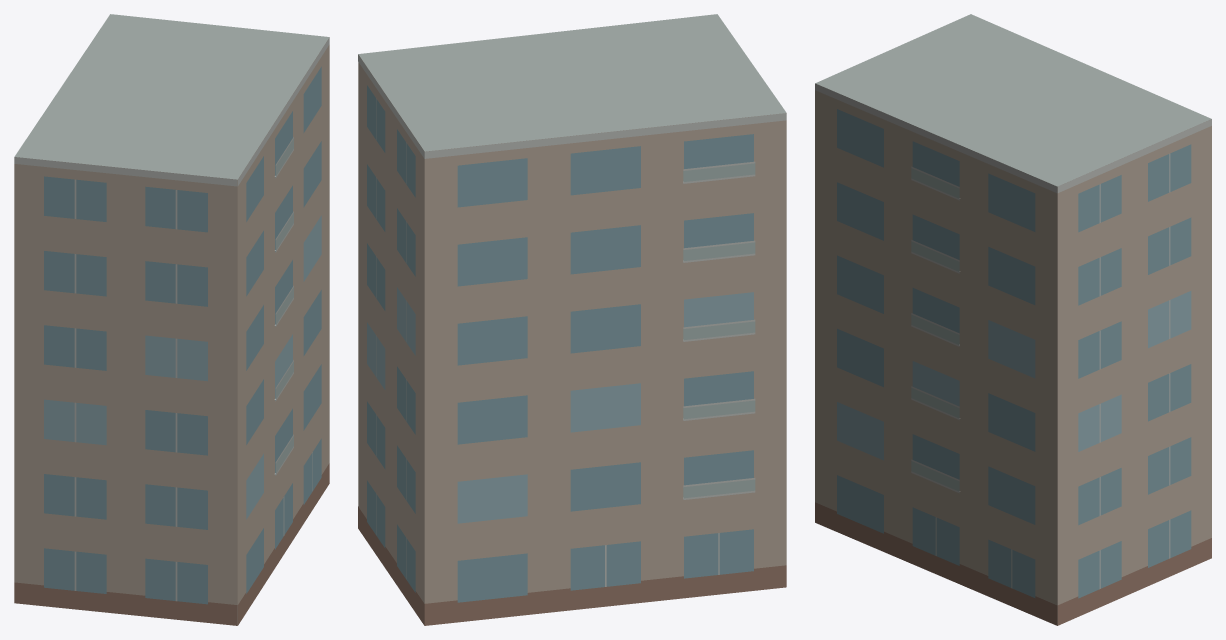
Rendered from survey-upis-32885749.glb.
3 renders of one model, left to right at view 1: azimuth 30°, elevation 25°; view 2: azimuth 150°, elevation 25°; view 3: azimuth 270°, elevation 25°, orthographic. The views are drawn at different scales.
Parts seen in each view (by area): view 1: survey-upis-32885749.tmp; view 2: survey-upis-32885749.tmp; view 3: survey-upis-32885749.tmp.
Part boxes in pixels (x1,y1,x2,y2): survey-upis-32885749.tmp: [14, 14, 329, 625]; survey-upis-32885749.tmp: [358, 14, 786, 625]; survey-upis-32885749.tmp: [815, 14, 1211, 625].
Size of the model in its own units: 13.24 by 15.7 by 12.86.
